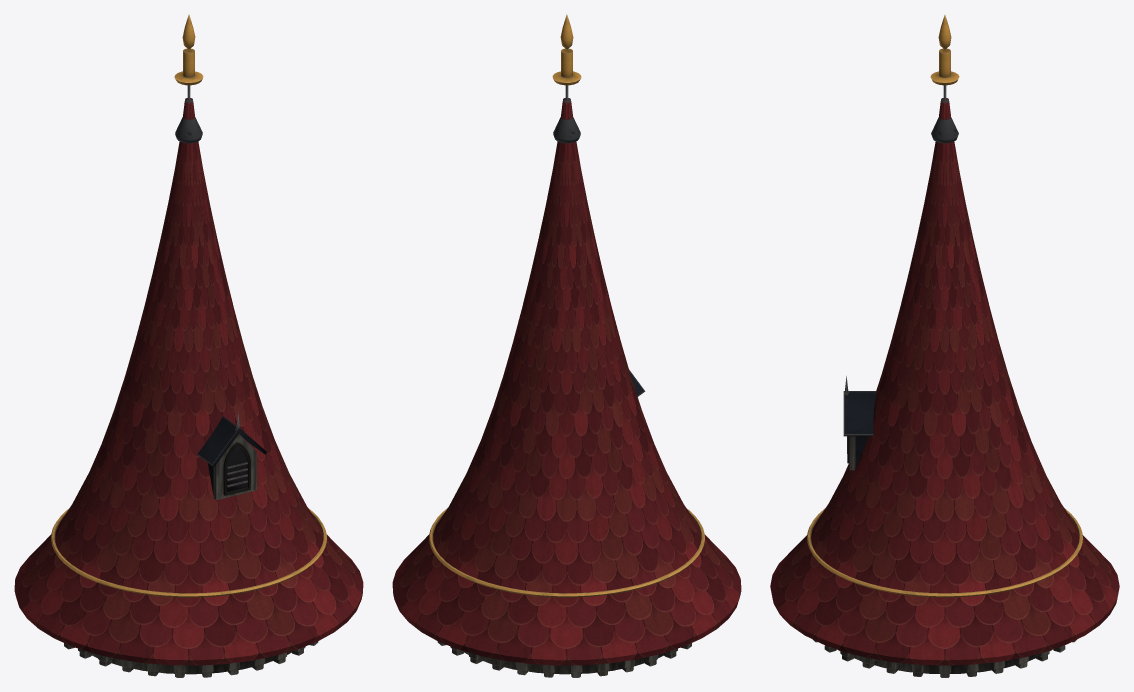
File: WitchHatCap.fbx
3 renders of one model, left to right at view 1: azimuth 30°, elevation 25°; view 2: azimuth 150°, elevation 25°; view 3: azimuth 270°, elevation 25°, orthographic.
Parts seen in each view (by area): view 1: WitchHatCap_Crimson, WitchHatCap_Main; view 2: WitchHatCap_Crimson, WitchHatCap_Main; view 3: WitchHatCap_Crimson, WitchHatCap_Main.
Part boxes in pixels (bbox=[...]): WitchHatCap_Crimson: bbox=[14, 99, 363, 665]; WitchHatCap_Main: bbox=[51, 14, 326, 677]; WitchHatCap_Crimson: bbox=[392, 99, 741, 665]; WitchHatCap_Main: bbox=[429, 14, 704, 677]; WitchHatCap_Crimson: bbox=[770, 99, 1119, 665]; WitchHatCap_Main: bbox=[807, 15, 1082, 677].
Size of the model in its own units: 816 by 1560 by 816.
